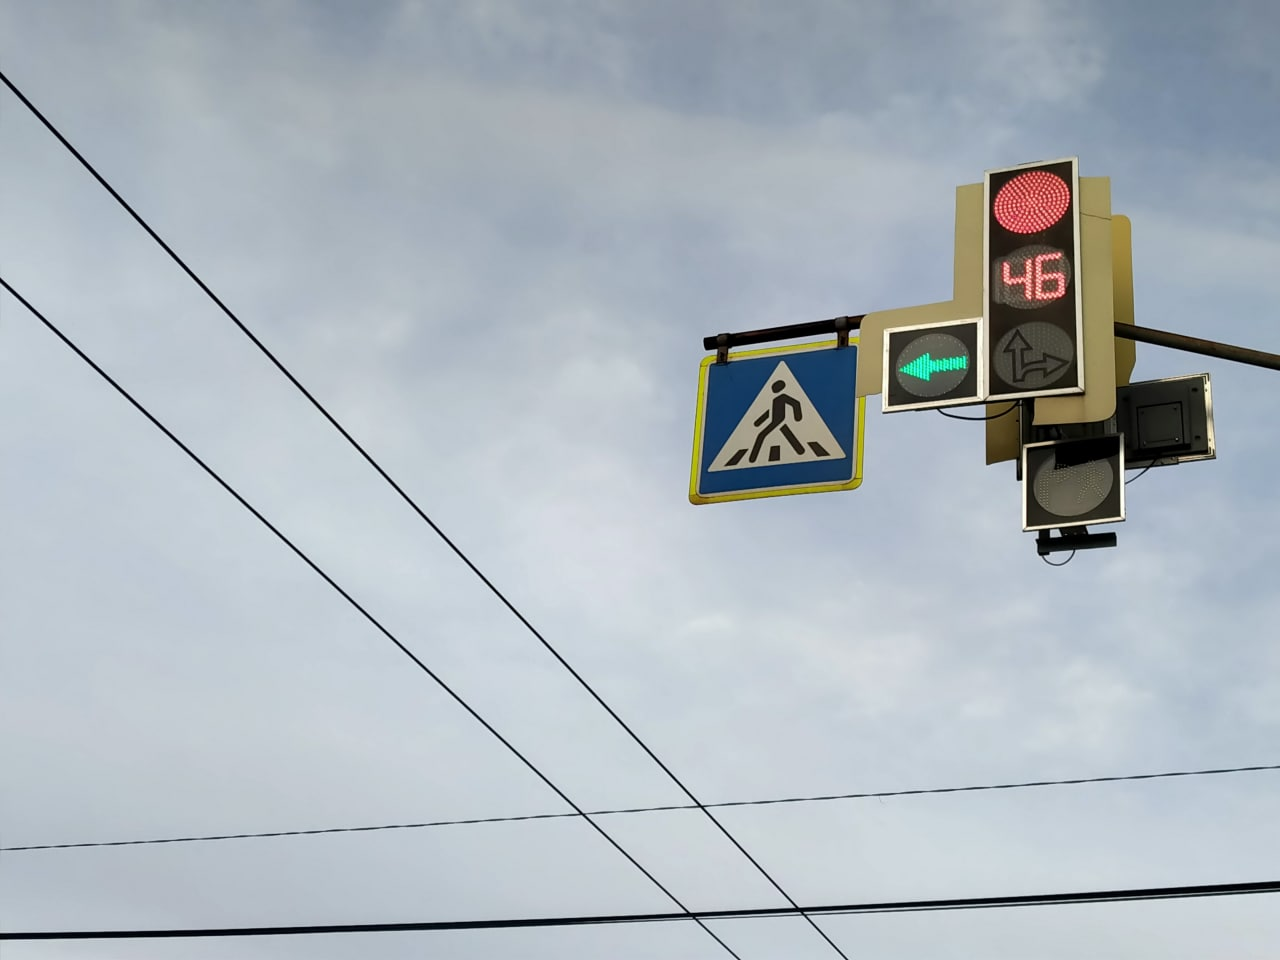tl: (873, 160, 1106, 402)
